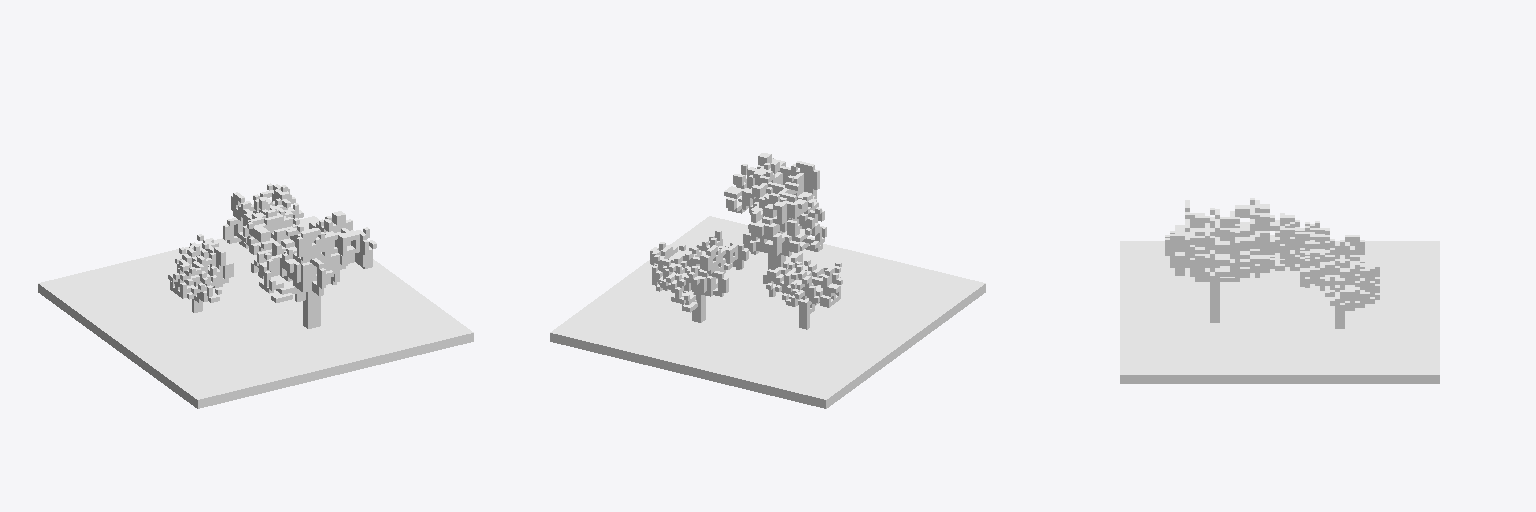
File: trees.obj
3 renders of one model, left to right at view 1: azimuth 30°, elevation 25°; view 2: azimuth 150°, elevation 25°; view 3: azimuth 270°, elevation 25°, orthographic.
Visible parts, largest first — view 1: trees; view 2: trees; view 3: trees.
Part boxes in pixels (bbox=[...]): trees: bbox=[38, 183, 473, 408]; trees: bbox=[550, 153, 985, 408]; trees: bbox=[1120, 198, 1439, 383].
Bounding box in the file's own units: 64 × 27 × 64.